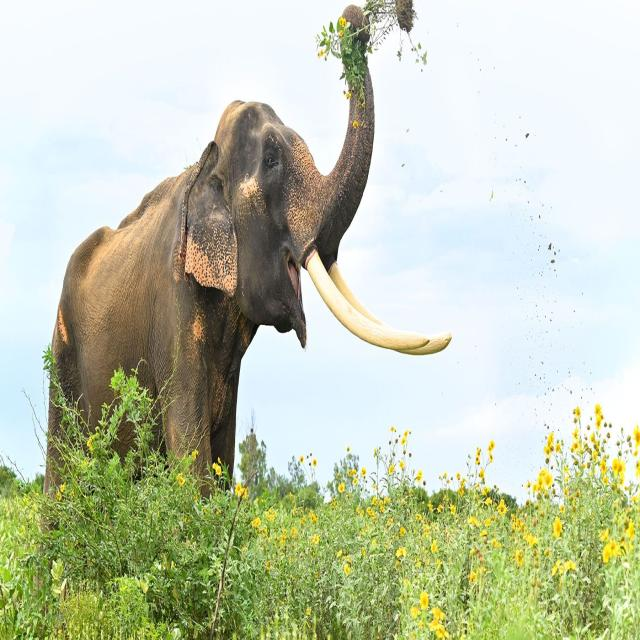Elephant: (43, 6, 441, 499)
